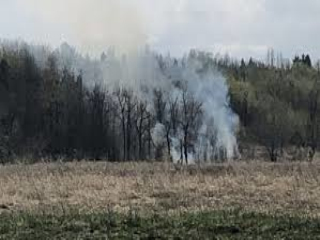smoke: (111, 43, 184, 165), (182, 67, 253, 169)
